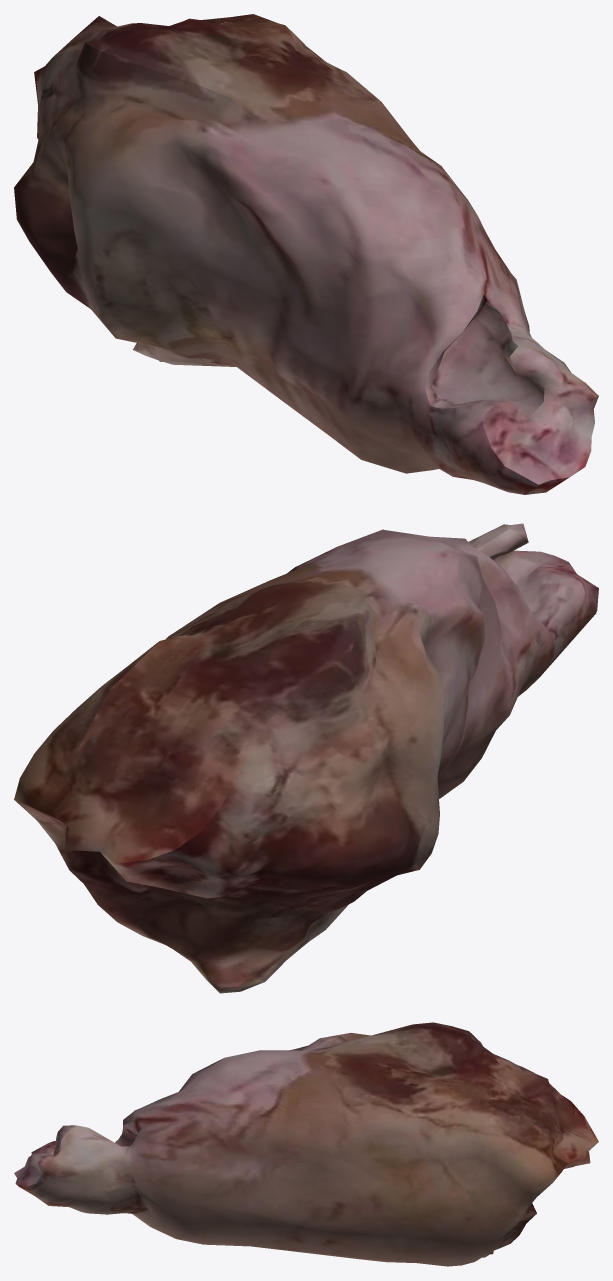
The model's file is humanmeat.burned.worldmodel.glb.
The picture shows the model from 3 angles, top to bottom: view 1: azimuth 30°, elevation 25°; view 2: azimuth 150°, elevation 25°; view 3: azimuth 270°, elevation 25°; orthographic projection. The views are drawn at different scales.
Visible parts, largest first — view 1: human_meat_LOD0; view 2: human_meat_LOD0; view 3: human_meat_LOD0.
Boxes of the visible parts, x1=… form: human_meat_LOD0: x1=14, y1=14, x2=598, y2=494; human_meat_LOD0: x1=14, y1=523, x2=598, y2=993; human_meat_LOD0: x1=14, y1=1022, x2=598, y2=1266.
Size of the model in its own units: 0.1335 by 0.1393 by 0.3454.
Materials: 1 (1 with a texture image).
